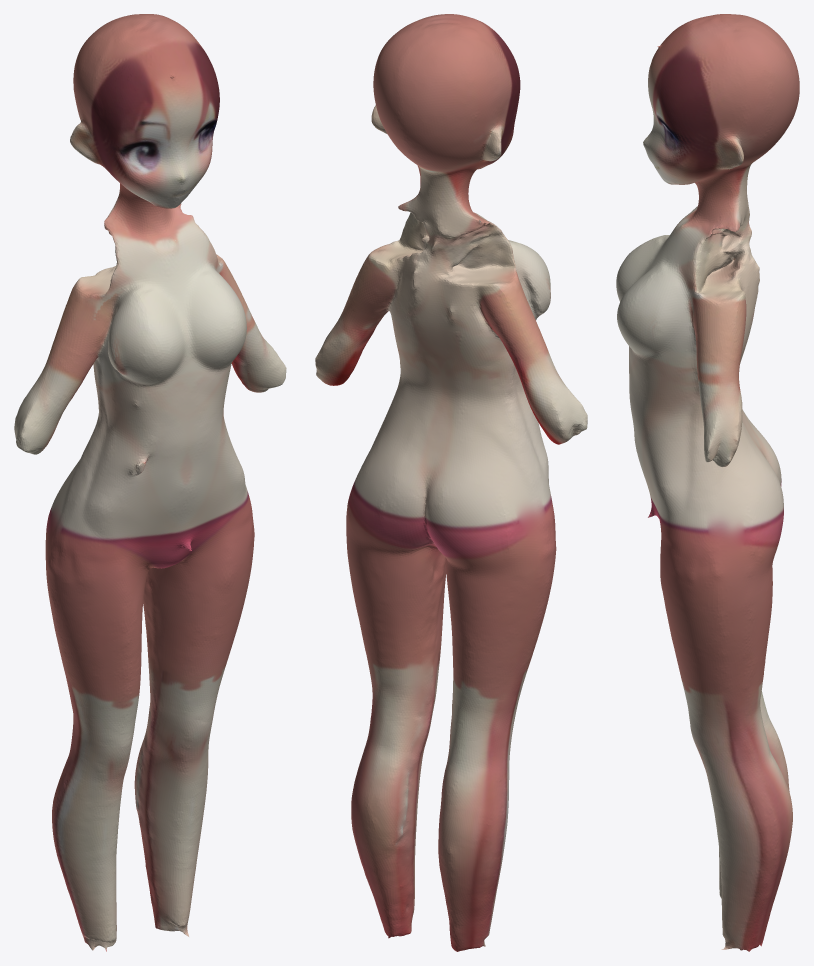
3 views of the same model, side by side, from view 1: azimuth 30°, elevation 25°; view 2: azimuth 150°, elevation 25°; view 3: azimuth 270°, elevation 25° (orthographic).
Visible parts, largest first — view 1: world; view 2: world; view 3: world.
Boxes of the visible parts, left/top/right/bottom form: world: left=14, top=14, right=286, bottom=951; world: left=315, top=14, right=587, bottom=951; world: left=616, top=14, right=799, bottom=951.
Size of the model in its own units: 0.5235 by 1.72 by 0.3146.
